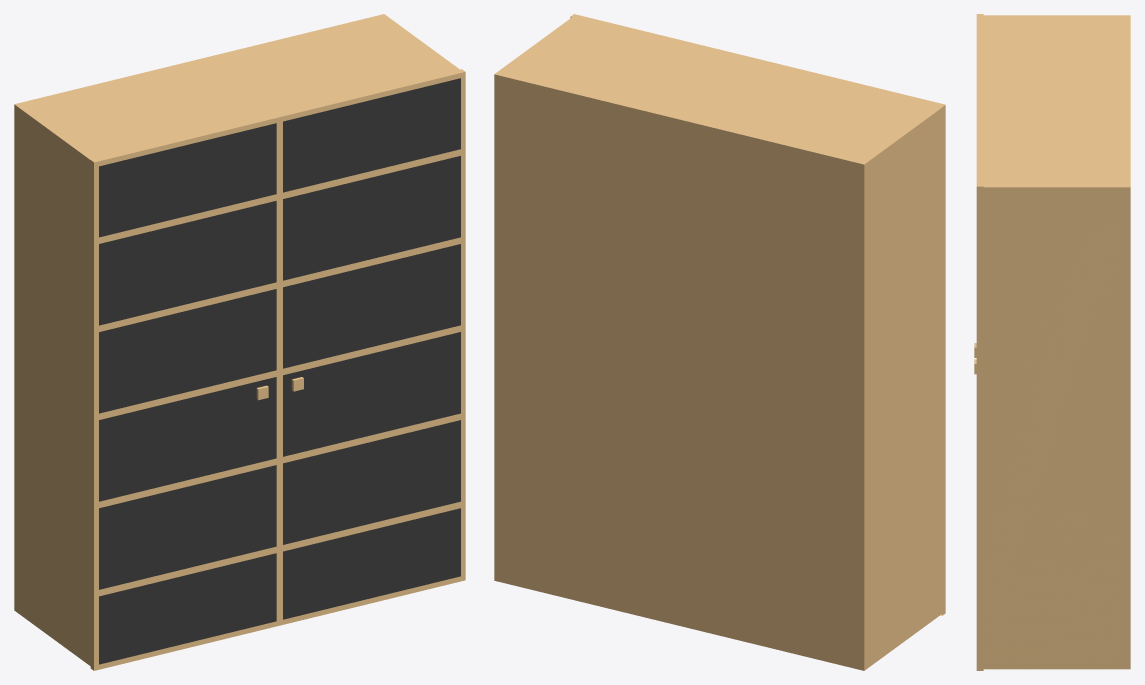
File: closet_002.glb
The picture shows the model from 3 angles, left to right: view 1: azimuth 30°, elevation 25°; view 2: azimuth 150°, elevation 25°; view 3: azimuth 270°, elevation 25°; orthographic projection. The views are drawn at different scales.
Parts seen in each view (by area): view 1: closet_002; view 2: closet_002; view 3: closet_002.
Part boxes in pixels (box(x1,y1,x2,y2)): closet_002: box(14, 14, 465, 670); closet_002: box(494, 14, 945, 670); closet_002: box(974, 14, 1130, 670).
Size of the model in its own units: 1.5 by 1.96 by 0.5716.
Materials: 1 (1 with a texture image).
